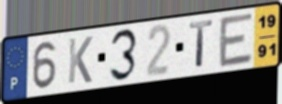2: (145, 22, 174, 79)
3: (105, 28, 141, 84)
6: (31, 40, 59, 91)
E: (217, 10, 255, 70)
K: (66, 35, 94, 86)
T: (188, 18, 215, 70)
